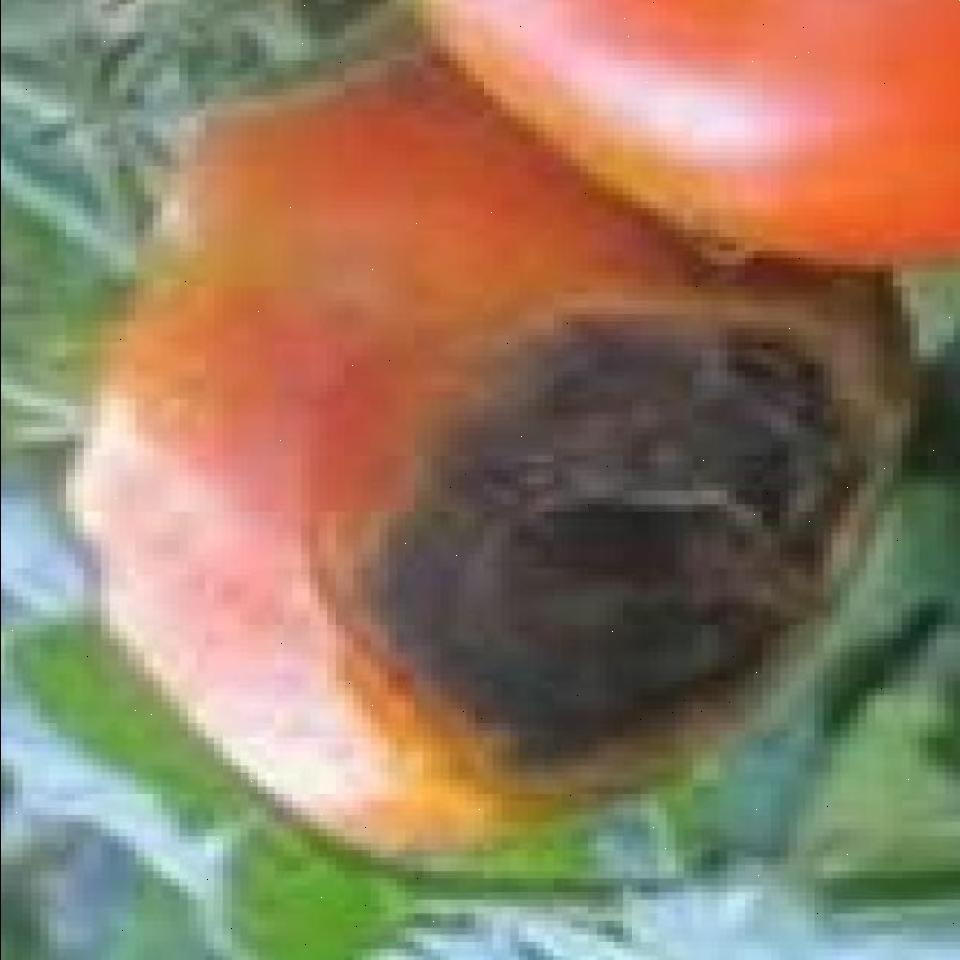Blossom_end_rot: (347, 308, 880, 822)
